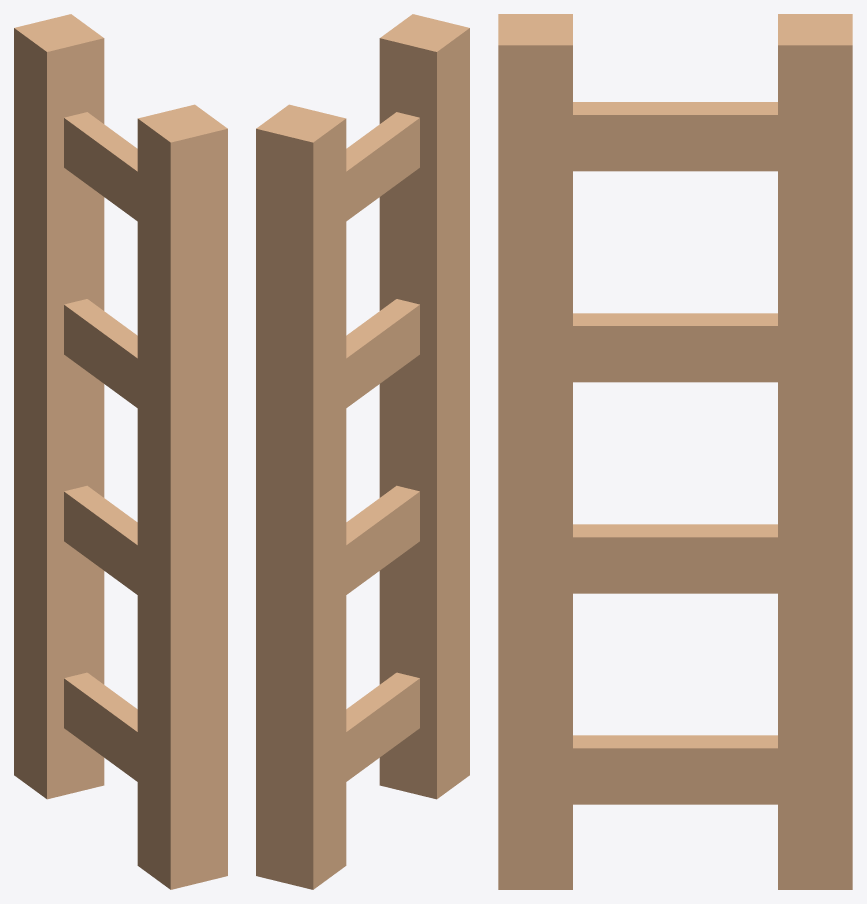
The model's file is ladder.glb.
3 renders of one model, left to right at view 1: azimuth 30°, elevation 25°; view 2: azimuth 150°, elevation 25°; view 3: azimuth 270°, elevation 25°, orthographic. The views are drawn at different scales.
Parts seen in each view (by area): view 1: ladder(Clone); view 2: ladder(Clone); view 3: ladder(Clone).
Boxes of the visible parts, box(x1,y1,x2,y2) form: ladder(Clone): box(14, 14, 227, 889); ladder(Clone): box(256, 14, 469, 889); ladder(Clone): box(498, 14, 852, 889).
Bounding box in the file's own units: 0.08 × 1 × 0.38.
